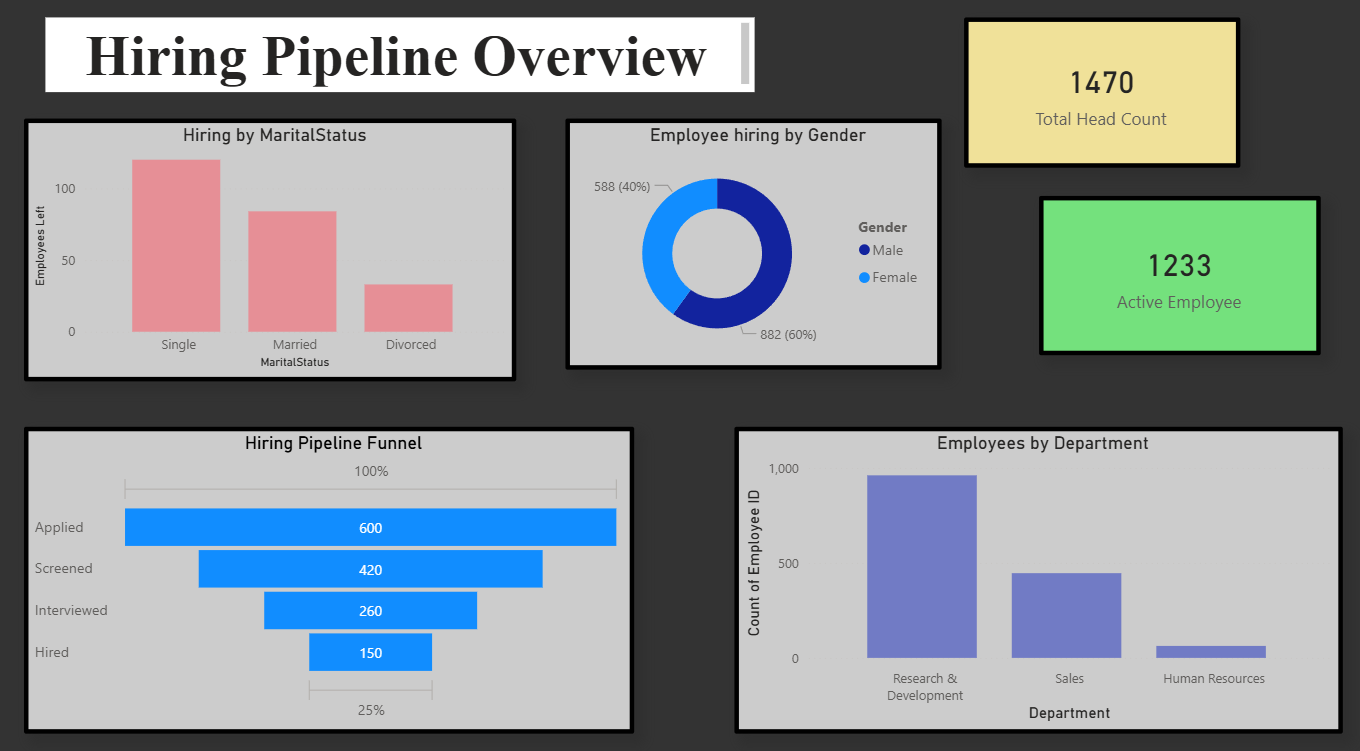

The page's visual inventory and layout, read from the dashboard file:
{"tool":"powerbi","page":{"name":"Page 3","canvas":[1280,720],"ordinal":2},"visuals":[{"type":"funnel","title":"Hiring Pipeline Funnel","fields":{"Y":["Sum(HiringFunnel.Candidates)"],"Category":["HiringFunnel.Stage"]},"box":[23.3,402.2,570,286.7],"z":0},{"type":"textbox","box":[43.3,20,662.2,70],"z":1},{"type":"card","fields":{"Values":["CountNonNull(project2 data.Employee ID)"]},"box":[901.1,20,257.8,140],"z":2},{"type":"card","fields":{"Values":["project2 data.Active Employees1"]},"box":[971.1,186.7,263.3,148.9],"z":3},{"type":"clusteredColumnChart","title":"Employees by Department","fields":{"Category":["project2 data.Department"],"Y":["CountNonNull(project2 data.Employee ID)"]},"box":[686.7,402.2,567.8,286.7],"z":4},{"type":"donutChart","title":" Employee hiring by Gender","fields":{"Category":["project2 data.Gender"],"Y":["CountNonNull(project2 data.Employee ID)"]},"box":[528.9,114.4,351.1,234.4],"z":5},{"type":"columnChart","title":"Hiring by MaritalStatus","fields":{"Category":["project2 data.MaritalStatus"],"Y":["project2 data.Employees Left"]},"box":[23.3,114.4,460,245.6],"z":6}]}

Visuals, with their boxes in screenshot pixels (x1, y1, x2, y2), scaled from the page's 1280x720 canvas onto the 1360x751 screenshot:
"Hiring Pipeline Funnel" funnel: bbox(25, 420, 630, 719)
textbox: bbox(46, 21, 750, 94)
card - CountNonNull(project2 data.Employee ID): bbox(957, 21, 1231, 167)
card - project2 data.Active Employees1: bbox(1032, 195, 1312, 350)
"Employees by Department" clusteredColumnChart: bbox(730, 420, 1333, 719)
" Employee hiring by Gender" donutChart: bbox(562, 119, 935, 364)
"Hiring by MaritalStatus" columnChart: bbox(25, 119, 514, 376)
